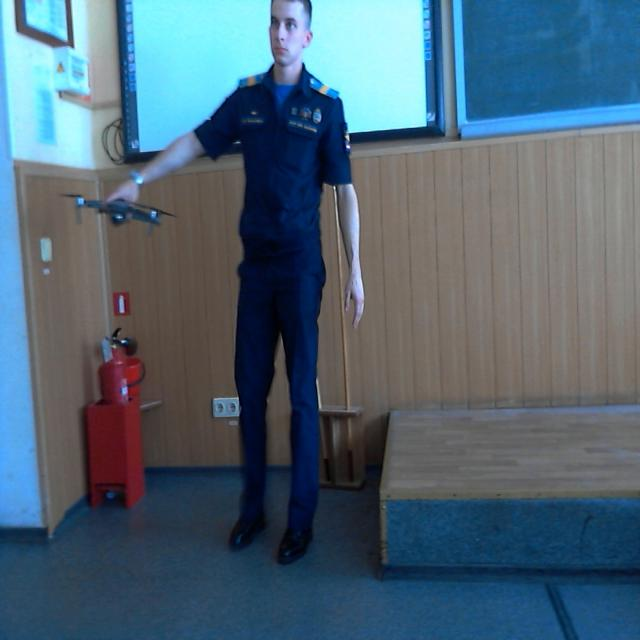drone: (64, 179, 178, 232)
